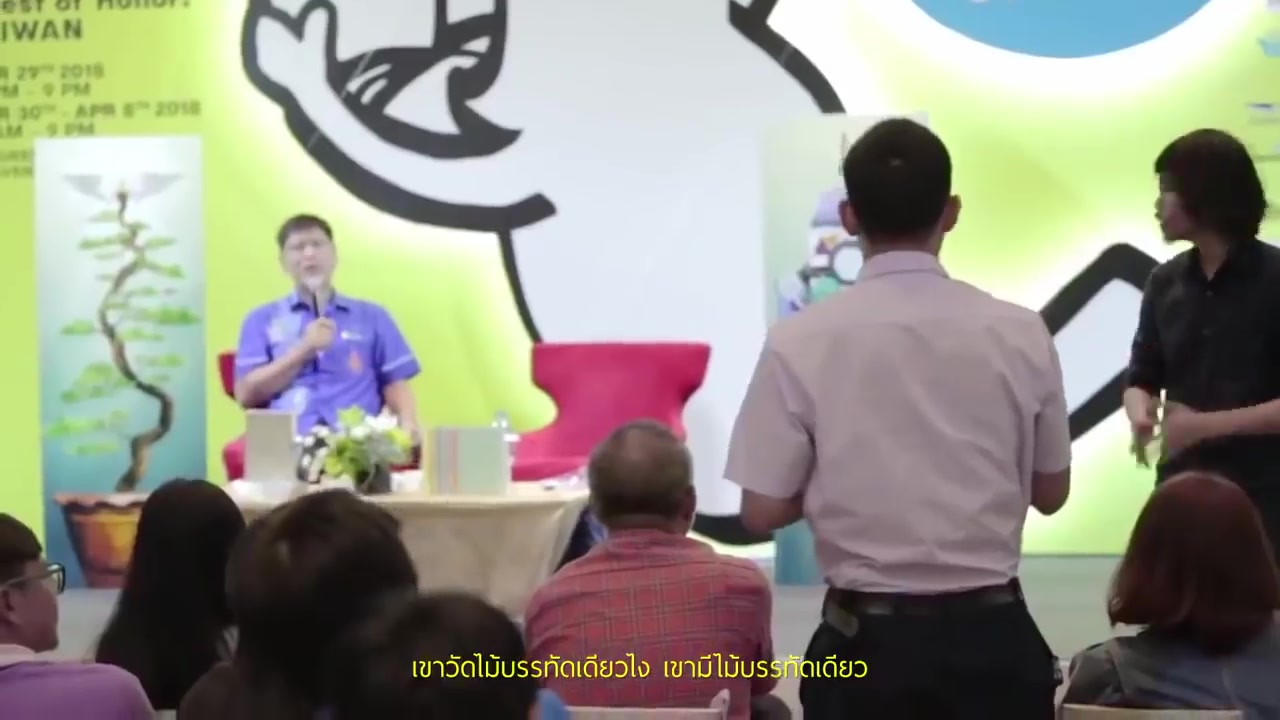text-label: (406, 646, 872, 681)
